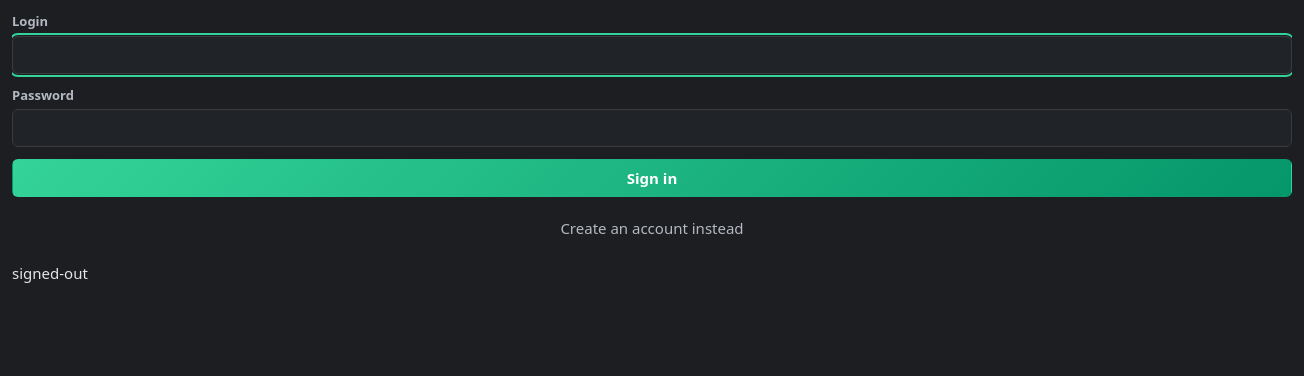
Scenario: PasswordAuthForm › shows the server's error message for wrong credentials
The image size is (1304, 376).
In the field labelled "Login": x=652, y=54 [12,36,1292,74], type "alice"
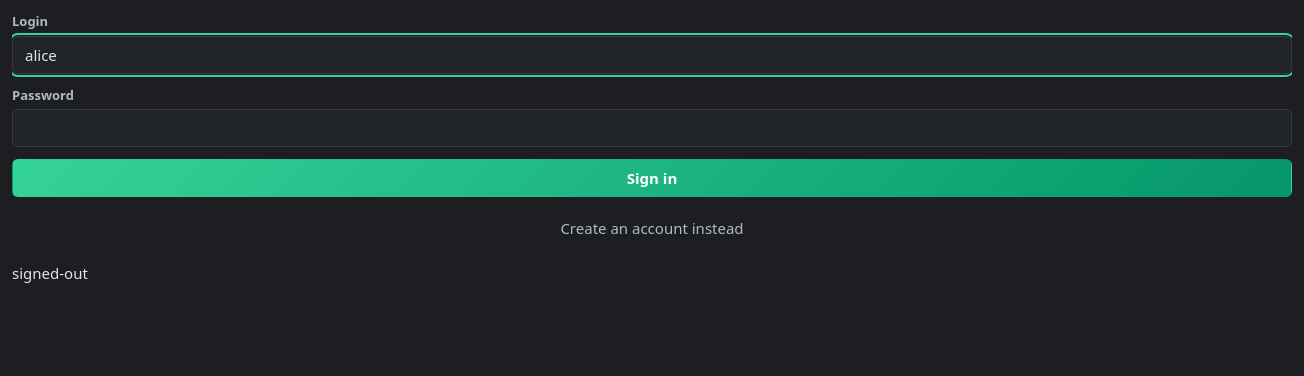
In the password field labelled "Password": x=652, y=128 [12,109,1292,147], type "wrong-password"
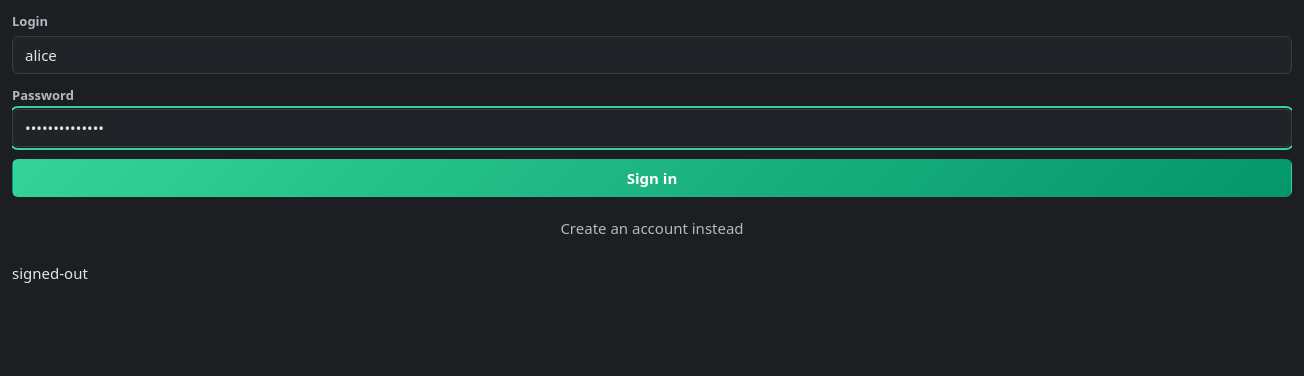
Click the button "Sign in": x=652, y=178 [12,159,1292,197]
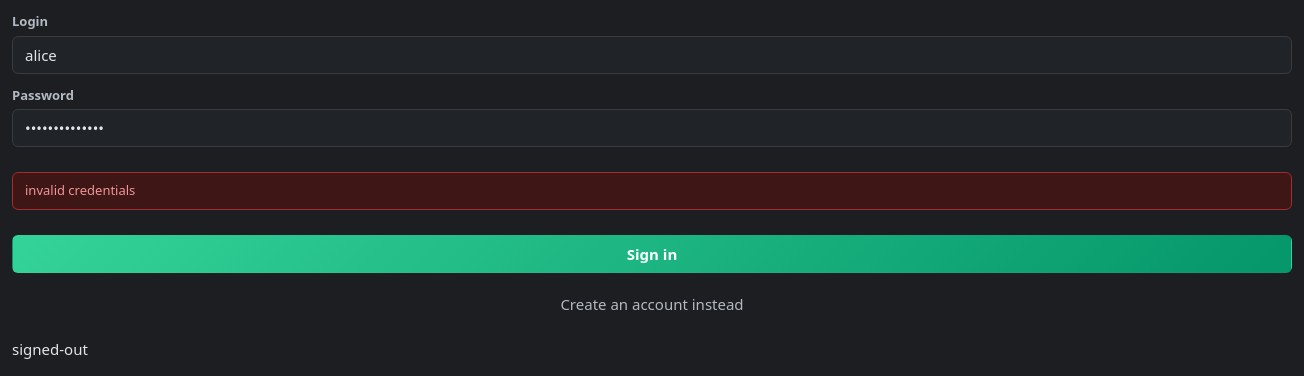
Expected: the message reads "invalid credentials", [25,181,135,199]
